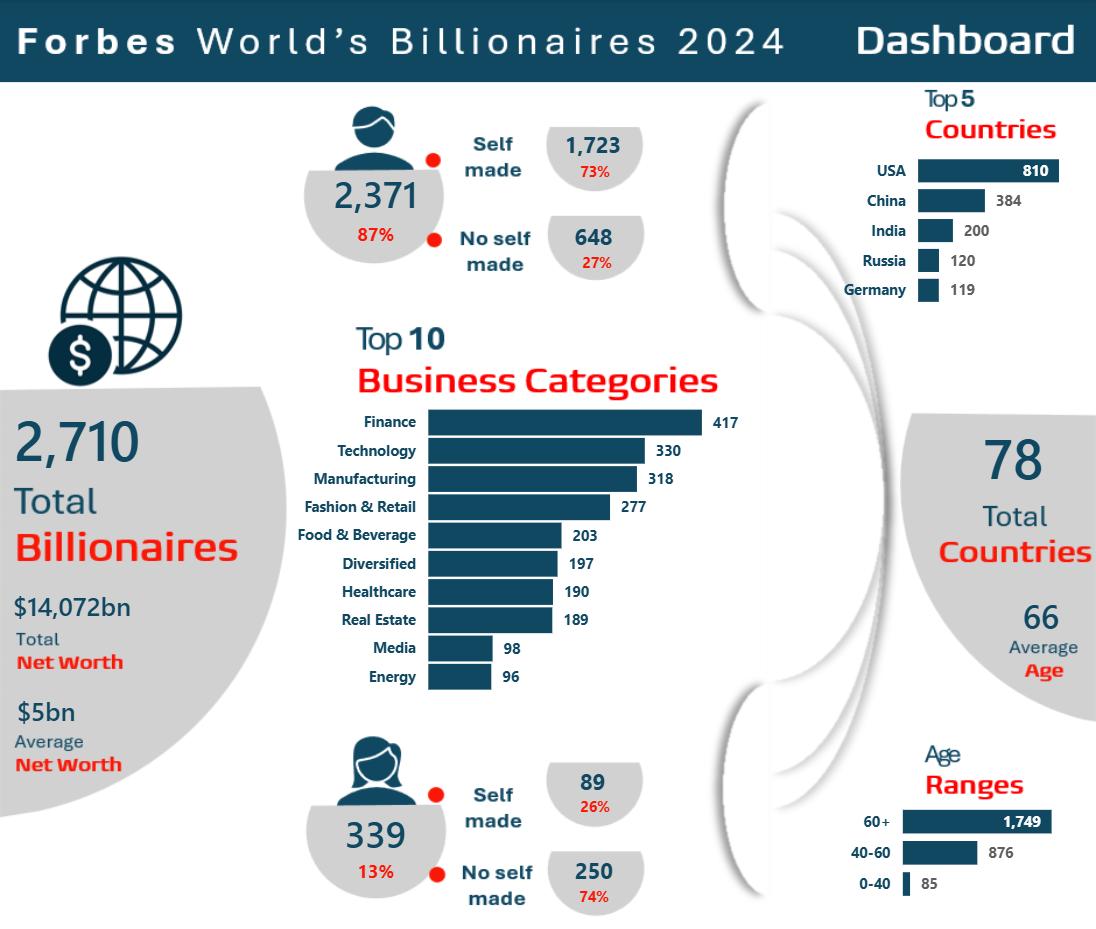

The dashboard page shown, as its layout file describes it:
{"tool":"powerbi","page":{"name":"Page 1","canvas":[800,680],"ordinal":0},"visuals":[{"type":"card","fields":{"Values":["_Measures.Total Billionaires"]},"box":[3.6,291.1,105.1,58.4],"z":0},{"type":"card","fields":{"Values":["_Measures.Total Countries"]},"box":[706.3,307.2,66.4,53.3],"z":1000},{"type":"card","fields":{"Values":["_Measures.Male"]},"box":[233.5,119.7,81,45.2],"z":2000},{"type":"card","fields":{"Values":["_Measures.Female"]},"box":[233.5,587.3,81,44.5],"z":3000},{"type":"card","fields":{"Values":["_Measures.Male self-made"]},"box":[403.2,93.4,58.4,28.5],"z":4000},{"type":"card","fields":{"Values":["_Measures.Male nonself-made"]},"box":[403.2,160.5,59.1,28.5],"z":5000},{"type":"card","fields":{"Values":["_Measures.Female self-made"]},"box":[403.5,558.4,57.6,28.5],"z":6000},{"type":"card","fields":{"Values":["_Measures.Female nonself-made"]},"box":[405,623.3,56.9,28.5],"z":7000},{"type":"card","fields":{"Values":["_Measures.% female"]},"box":[248.1,620.9,52.5,33.6],"z":8000},{"type":"card","fields":{"Values":["_Measures.% male"]},"box":[248.1,156.1,52.5,33.6],"z":9000},{"type":"card","fields":{"Values":["_Measures.% male self"]},"box":[406.1,113.1,55.5,24.8],"z":10000},{"type":"card","fields":{"Values":["_Measures.% male nonself"]},"box":[407.6,180.2,55.5,25.5],"z":11000},{"type":"card","fields":{"Values":["_Measures.% female self"]},"box":[406.4,576.7,55.5,24.8],"z":12000},{"type":"card","fields":{"Values":["_Measures.% female nonself"]},"box":[405.7,642.3,55.5,24.8],"z":13000},{"type":"card","fields":{"Values":["_Measures.Total net worth"]},"box":[0,419.5,105.1,48.9],"z":14000},{"type":"card","fields":{"Values":["_Measures.Average worth"]},"box":[0,496.1,67.1,48.9],"z":15000},{"type":"card","fields":{"Values":["_Measures.average age"]},"box":[734,426.8,51.1,48.2],"z":16000},{"type":"clusteredBarChart","fields":{"Category":["billionaires_2024_Ezz.business_category"],"Y":["_Measures.Total Billionaires"]},"box":[214.5,281.6,331.2,234.9],"z":17000},{"type":"clusteredBarChart","fields":{"Category":["billionaires_2024_Ezz.Age Range"],"Y":["_Measures.Total Billionaires"]},"box":[618.7,572.7,180.9,91.9],"z":18000},{"type":"clusteredBarChart","fields":{"Category":["billionaires_2024_Ezz.country_of_citizenship"],"Y":["_Measures.Total Billionaires"]},"box":[612.9,98.5,186.8,132.1],"z":19000}]}

Visuals, with their boxes in screenshot pixels (x1, y1, x2, y2), scaled from the page's 800x680 canvas onto the 1096x929 screenshot:
card - _Measures.Total Billionaires: region(5, 398, 149, 477)
card - _Measures.Total Countries: region(968, 420, 1059, 493)
card - _Measures.Male: region(320, 164, 431, 225)
card - _Measures.Female: region(320, 802, 431, 863)
card - _Measures.Male self-made: region(552, 128, 632, 167)
card - _Measures.Male nonself-made: region(552, 219, 633, 258)
card - _Measures.Female self-made: region(553, 763, 632, 802)
card - _Measures.Female nonself-made: region(555, 852, 633, 890)
card - _Measures.% female: region(340, 848, 412, 894)
card - _Measures.% male: region(340, 213, 412, 259)
card - _Measures.% male self: region(556, 155, 632, 188)
card - _Measures.% male nonself: region(558, 246, 634, 281)
card - _Measures.% female self: region(557, 788, 633, 822)
card - _Measures.% female nonself: region(556, 877, 632, 911)
card - _Measures.Total net worth: region(0, 573, 144, 640)
card - _Measures.Average worth: region(0, 678, 92, 745)
card - _Measures.average age: region(1006, 583, 1076, 649)
clusteredBarChart - billionaires_2024_Ezz.business_category x _Measures.Total Billionaires: region(294, 385, 748, 706)
clusteredBarChart - billionaires_2024_Ezz.Age Range x _Measures.Total Billionaires: region(848, 782, 1095, 908)
clusteredBarChart - billionaires_2024_Ezz.country_of_citizenship x _Measures.Total Billionaires: region(840, 135, 1095, 315)
